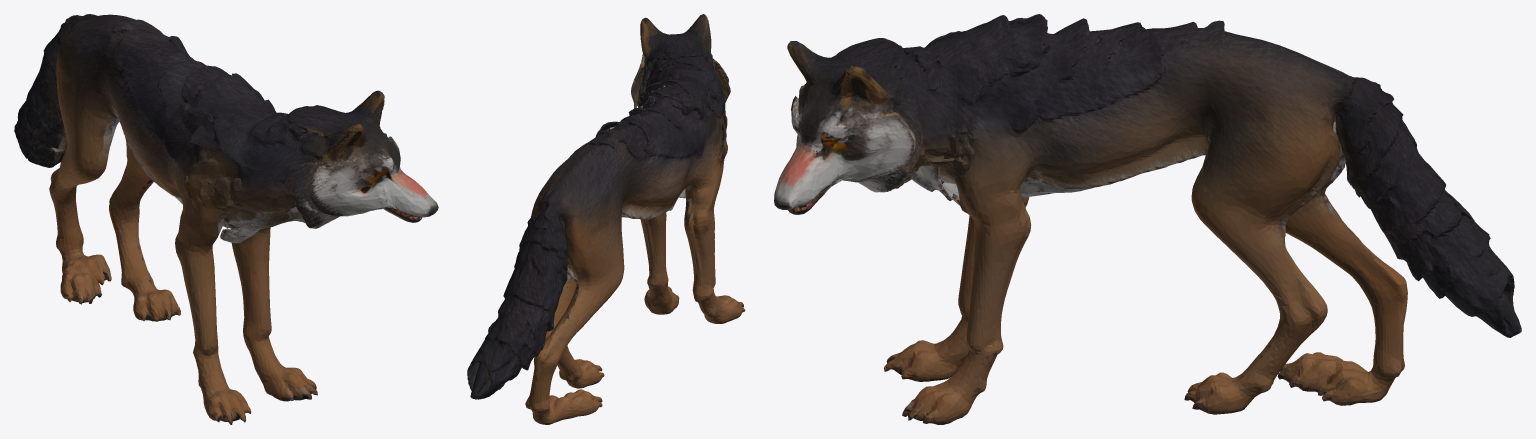
The model's file is quadruped_wolf.glb.
3 views of the same model, side by side, from view 1: azimuth 30°, elevation 25°; view 2: azimuth 150°, elevation 25°; view 3: azimuth 270°, elevation 25° (orthographic). The views are drawn at different scales.
Visible parts, largest first — view 1: textured_mesh.obj; view 2: textured_mesh.obj; view 3: textured_mesh.obj.
Boxes of the visible parts, <box> form: textured_mesh.obj: <box>14,14,438,424</box>; textured_mesh.obj: <box>467,14,745,424</box>; textured_mesh.obj: <box>774,14,1521,424</box>.
Size of the model in its own units: 0.6562 by 1.13 by 1.98.
Materials: 1 (1 with a texture image).
